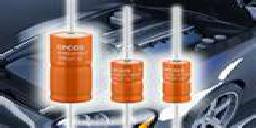Electrolytic-capacitor: (42, 1, 96, 128), (106, 5, 150, 128), (160, 3, 195, 128)
